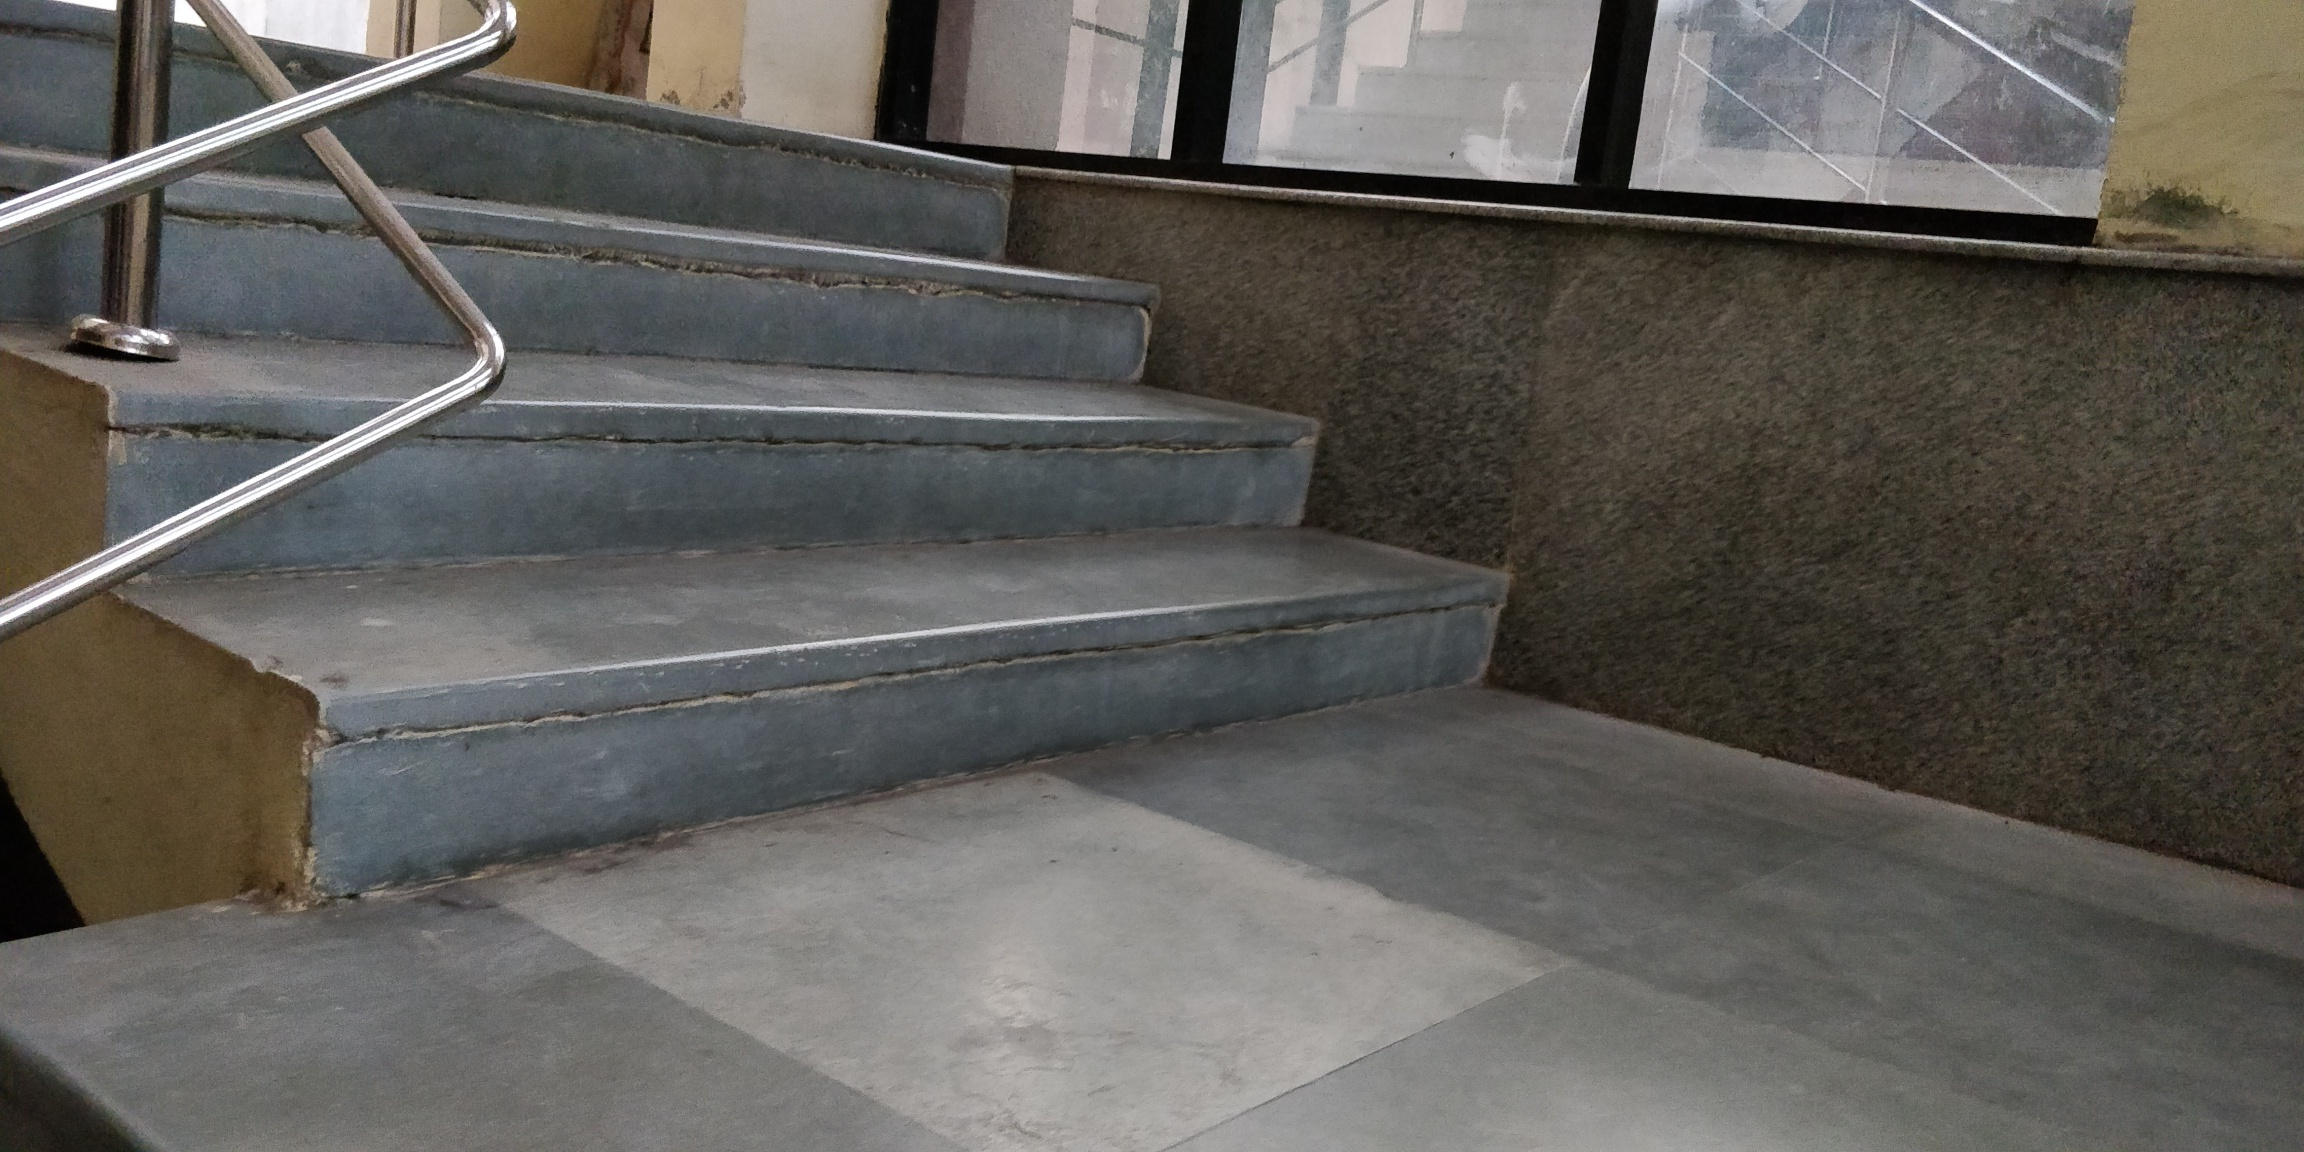stairs_up: (63, 6, 1505, 746)
